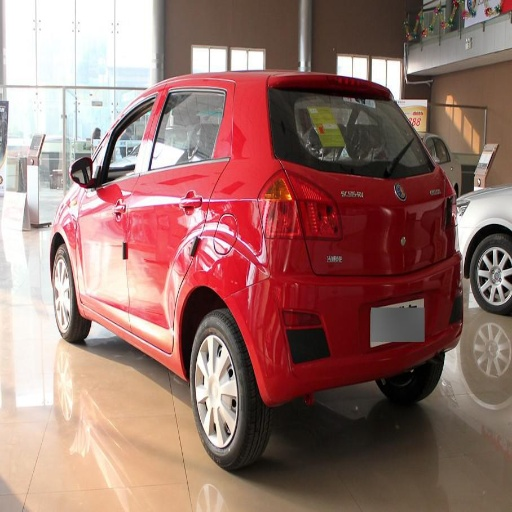back_bumper: (250, 273, 461, 402)
back_glass: (274, 90, 416, 171)
back_left_door: (131, 86, 230, 333)
trunk: (300, 172, 438, 284)
